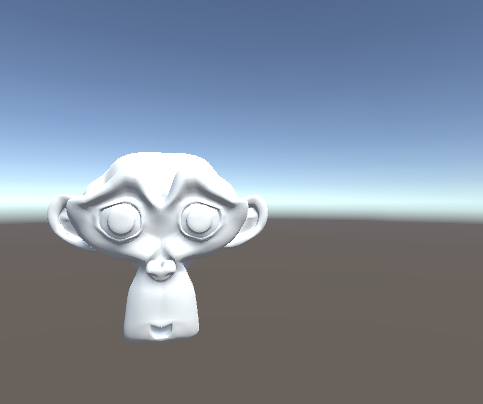monkey: (47, 149, 273, 344)
